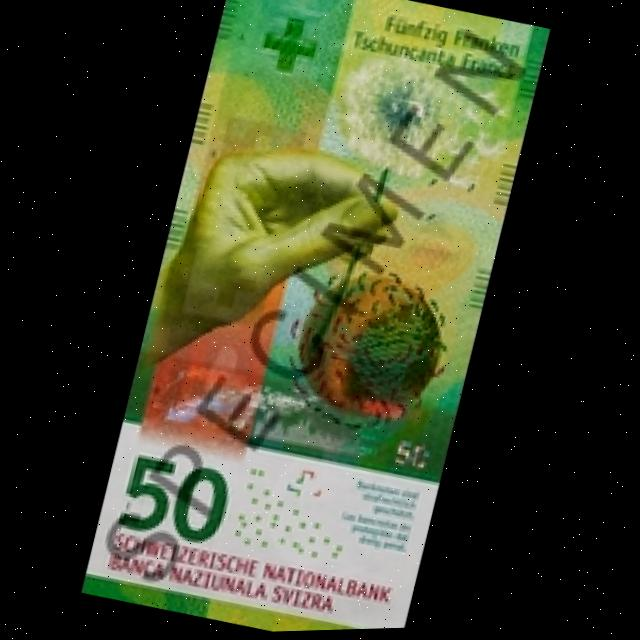banknote: (82, 0, 551, 638), (109, 441, 246, 567), (388, 437, 442, 485)
